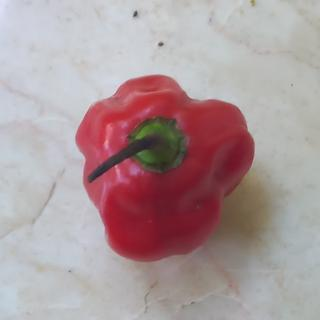Grade-B: (70, 71, 259, 264)
